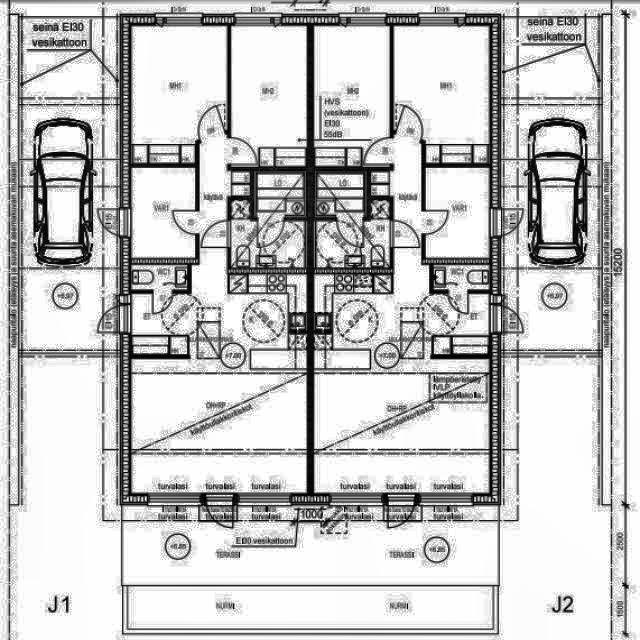room: (131, 26, 227, 163), (394, 26, 490, 163), (314, 26, 390, 167), (232, 26, 307, 167), (132, 168, 195, 257), (426, 168, 489, 257), (232, 220, 304, 267), (317, 220, 389, 267), (317, 174, 363, 217), (258, 174, 304, 214), (132, 265, 187, 289), (434, 265, 489, 289)
